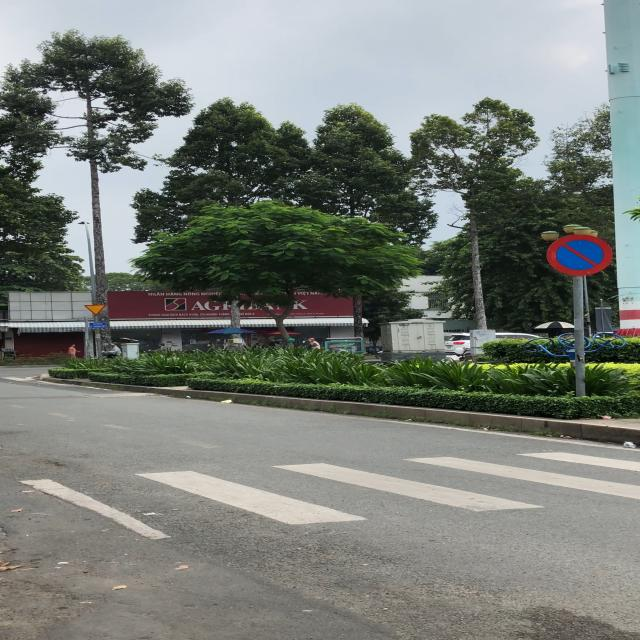Bien bao cam do xe: (542, 234, 618, 277)
Bien bao giao nhau voi duong uu tien: (84, 304, 108, 317)
